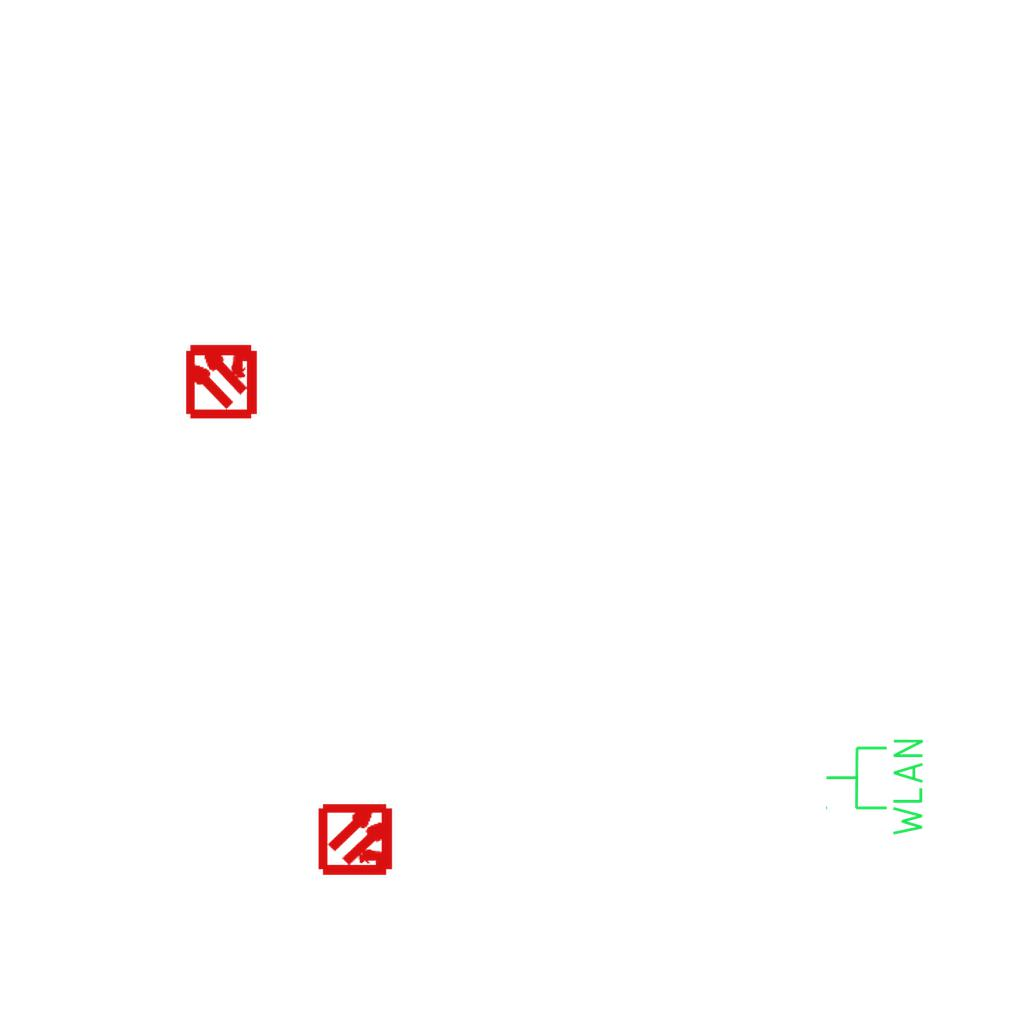OT_Multisensormelder_(Kombination_RMO_WMD): (301, 783, 414, 896), (165, 323, 278, 436)
WLAN: (823, 735, 927, 840)
